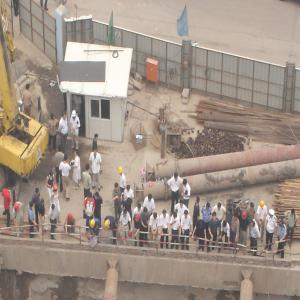none: (6, 182, 11, 192), (270, 209, 275, 218), (180, 200, 185, 209), (184, 179, 189, 188), (175, 173, 180, 182), (148, 194, 153, 203), (86, 164, 91, 173), (89, 192, 94, 201), (291, 209, 296, 217), (252, 221, 257, 229), (250, 203, 255, 211), (195, 197, 200, 205), (163, 210, 168, 218), (144, 208, 149, 216), (115, 183, 120, 191), (95, 192, 100, 200), (41, 198, 46, 206), (65, 155, 70, 163), (235, 212, 239, 221), (185, 210, 189, 219), (174, 211, 178, 220), (75, 150, 80, 157), (51, 114, 56, 121), (281, 219, 285, 227), (229, 207, 233, 215), (223, 221, 227, 229), (219, 203, 223, 211), (213, 212, 217, 220), (207, 203, 211, 211), (154, 213, 158, 221), (138, 204, 142, 212), (94, 148, 98, 156), (95, 134, 99, 142), (30, 201, 34, 209), (52, 204, 56, 212), (50, 171, 54, 179), (59, 145, 63, 153), (63, 112, 67, 120), (127, 185, 131, 192), (128, 198, 132, 205), (124, 210, 128, 217), (36, 189, 40, 196), (27, 85, 31, 92)
red: (68, 214, 74, 222), (242, 212, 247, 221), (136, 214, 141, 222), (15, 204, 20, 212), (55, 185, 59, 193)
white: (72, 110, 77, 120)
yellow: (91, 219, 97, 229), (105, 221, 111, 231), (119, 167, 124, 176), (261, 201, 266, 209)
